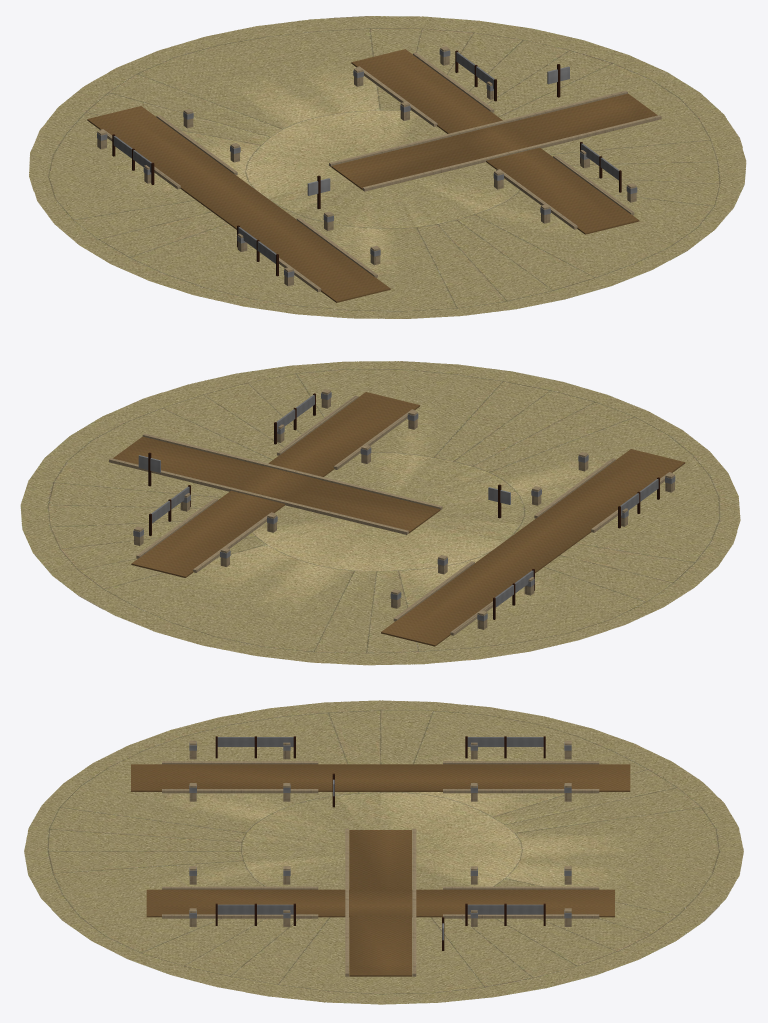
File: road-bronze.glb
The picture shows the model from 3 angles, top to bottom: view 1: azimuth 30°, elevation 25°; view 2: azimuth 150°, elevation 25°; view 3: azimuth 270°, elevation 25°; orthographic projection.
Visible parts, largest first — view 1: LOD0; view 2: LOD0; view 3: LOD0.
Part boxes in pixels (<box>): LOD0: <box>29,16,746,318</box>; LOD0: <box>20,361,740,665</box>; LOD0: <box>24,700,743,1004</box>.
Size of what is drawn, in the model's own units: 4.74 by 0.2299 by 4.74.
3 materials, 3 textured.
